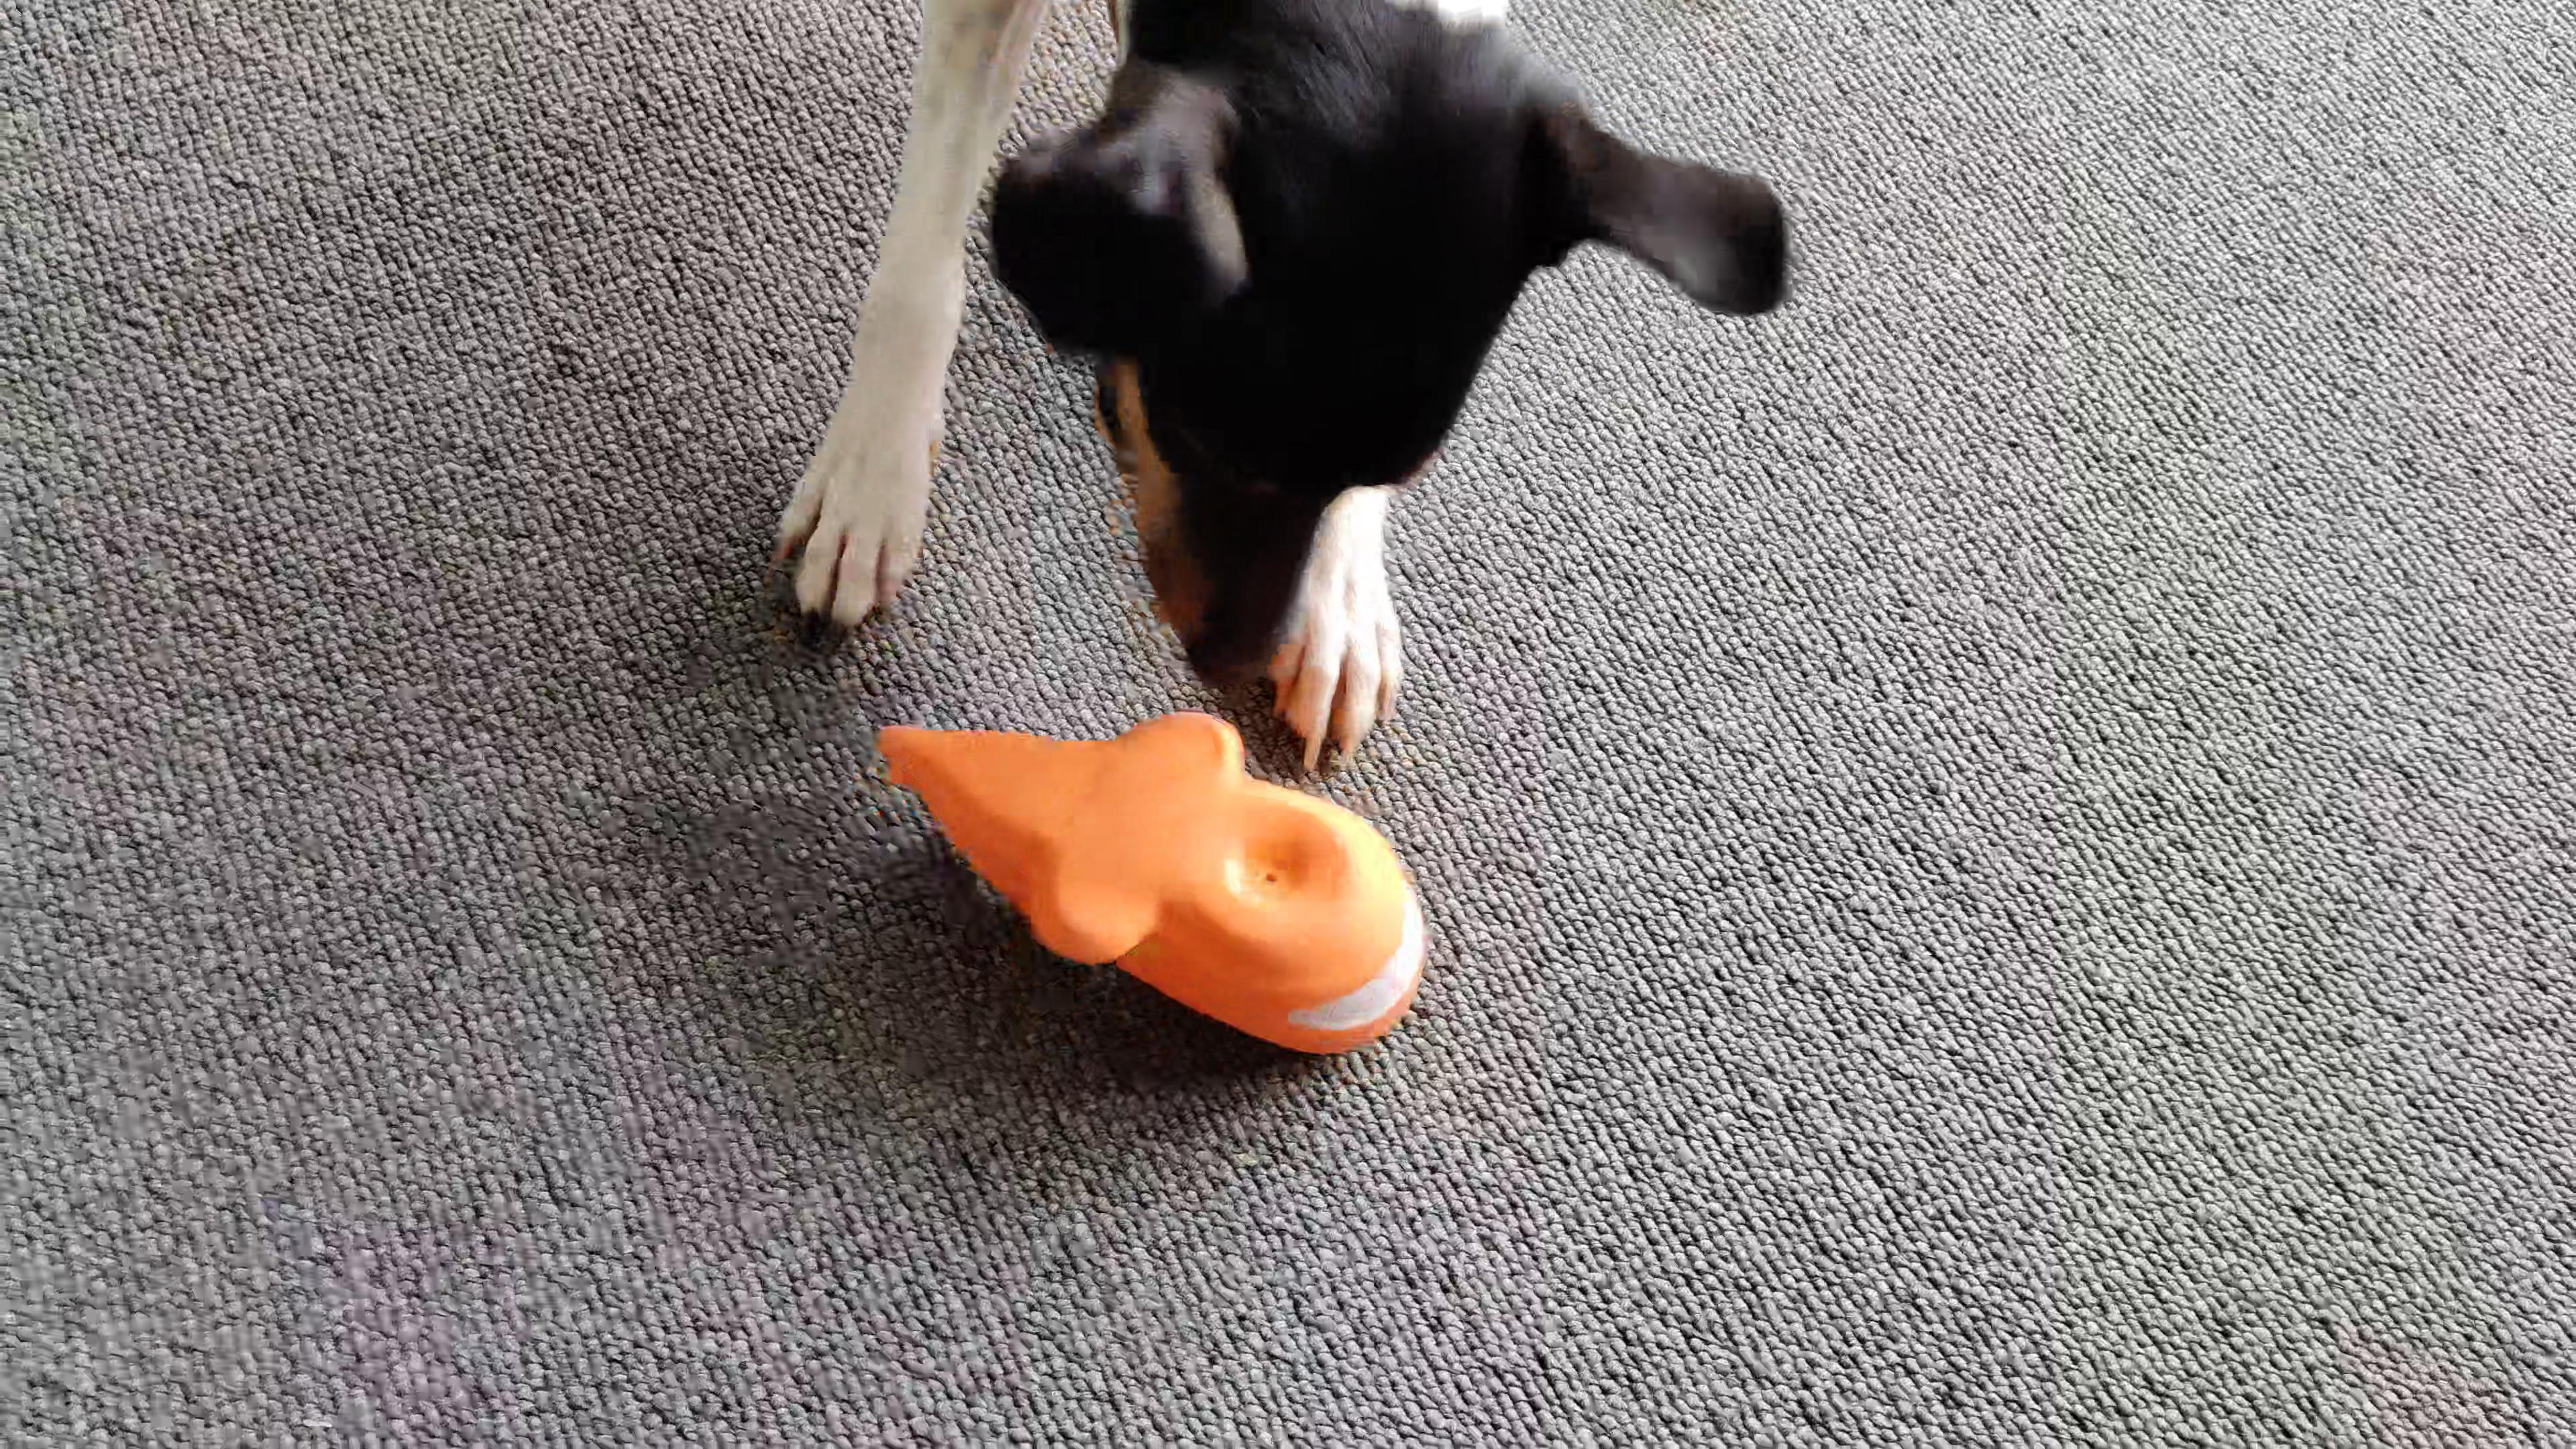Dog: (768, 0, 1801, 789)
